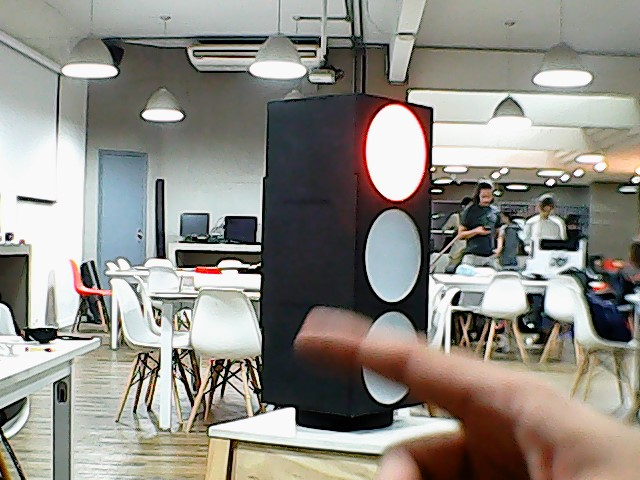vermelho: (259, 89, 434, 418)
